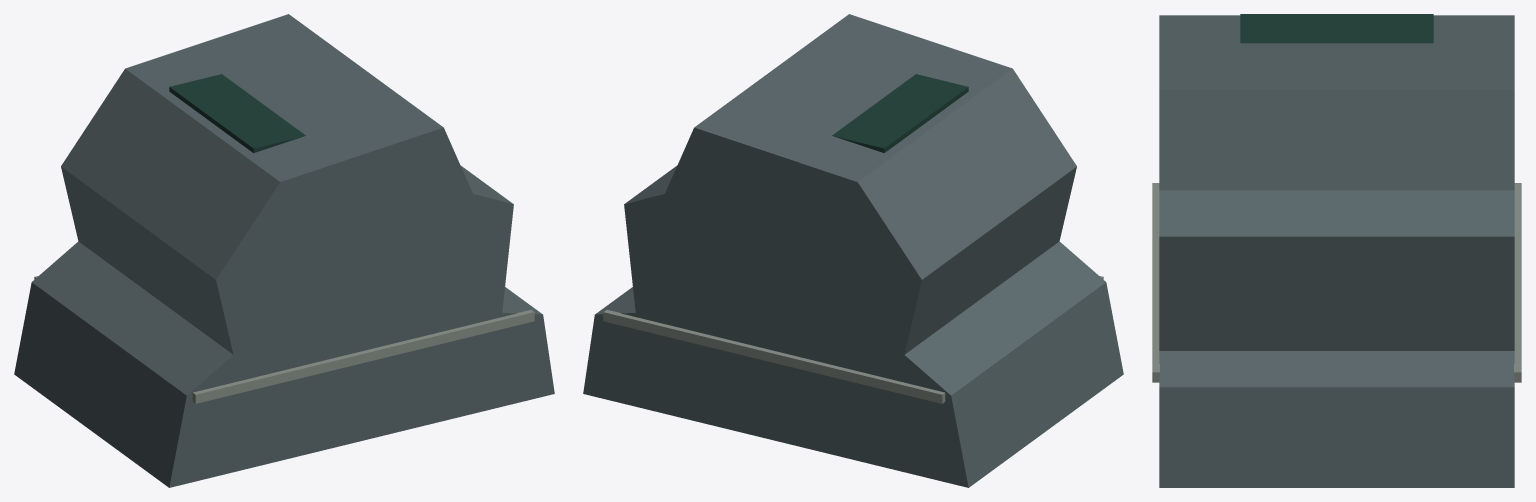
The model's file is PirateCove_CliffWall_Standard.glb.
The picture shows the model from 3 angles, left to right: view 1: azimuth 30°, elevation 25°; view 2: azimuth 150°, elevation 25°; view 3: azimuth 270°, elevation 25°; orthographic projection. The views are drawn at different scales.
Parts seen in each view (by area): view 1: PirateCove_CliffWall_Standard; view 2: PirateCove_CliffWall_Standard; view 3: PirateCove_CliffWall_Standard.
Part boxes in pixels (x1,y1,x2,y2): PirateCove_CliffWall_Standard: (14,14,554,487); PirateCove_CliffWall_Standard: (583,14,1123,487); PirateCove_CliffWall_Standard: (1152,14,1521,487).
Bounding box in the file's own units: 6.6 × 4.8 × 4.78.
